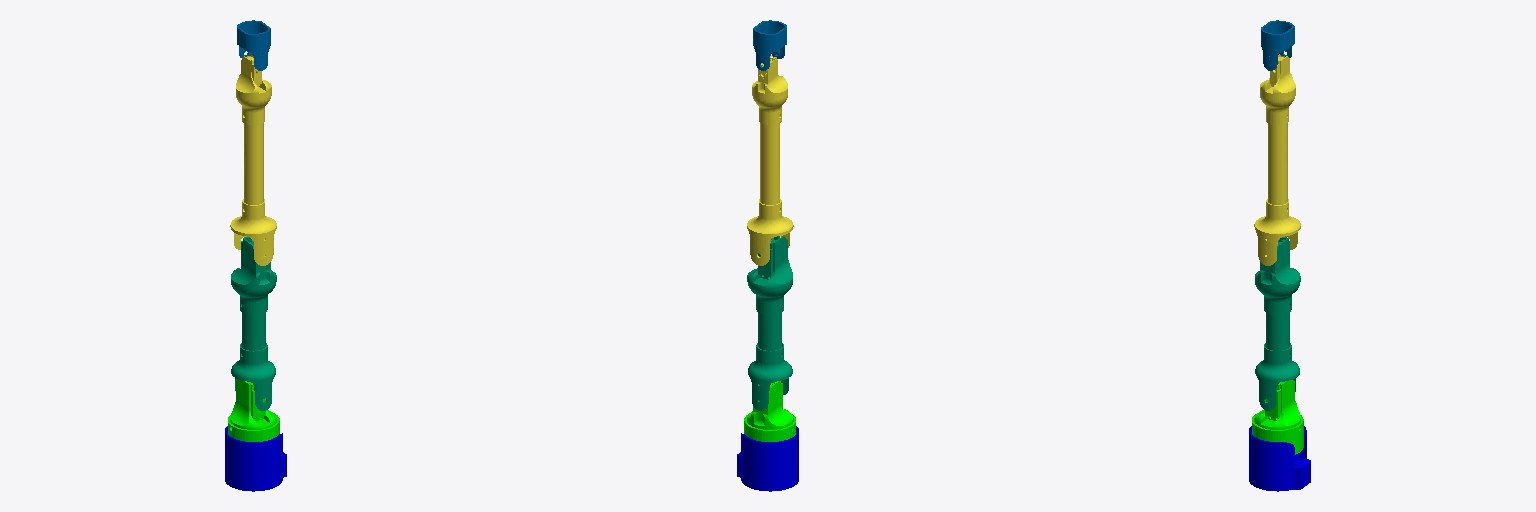
URDF robot description (RoboticArm):
<?xml version="1.0"?>
<robot name="RoboticArm">

  <!-- Base link -->
  <link name="base_link">
    <visual>
      <geometry>
        <mesh filename="package://gazebo_simulation/meshes/RobotArm/Baselink.stl" scale="0.001 0.001 0.001"/>
      </geometry>
      <origin xyz="0 0 0" rpy="0 0 0"/>
      <material name="blue">
        <color rgba="0 0 1 1"/>
      </material>
    </visual>
    <collision>
      <geometry>
        <mesh filename="package://gazebo_simulation/meshes/RobotArm/Baselink.stl" scale="0.001 0.001 0.001"/>
      </geometry>
    </collision>
    <inertial>
      <mass value="0.25"/>
      <inertia ixx="0.001" iyy="0.001" izz="0.001" ixy="0" ixz="0" iyz="0"/>
    </inertial>
  </link>

  <!-- Joint Base to Link1 -->
  <joint name="joint_base" type="revolute">
    <parent link="base_link"/>
    <child link="link_1"/>
    <origin xyz="0 0 0.0485" rpy="0 0 0"/>
    <axis xyz="0 0 1"/>
    <limit lower="-3.14159" upper="3.14159" effort="10" velocity="1"/>
  </joint>

  <!-- Link 1 -->
  <link name="link_1">
    <visual>
      <geometry>
        <mesh filename="package://gazebo_simulation/meshes/RobotArm/Link1.stl" scale="0.001 0.001 0.001"/>
      </geometry>
      <origin xyz="0 0 0" rpy="0 0 0"/>
      <material name="green">
        <color rgba="0 1 0 1"/>
      </material>
    </visual>
    <collision>
      <geometry>
        <mesh filename="package://gazebo_simulation/meshes/RobotArm/Link1.stl" scale="0.001 0.001 0.001"/>
      </geometry>
    </collision>
    <inertial>
      <mass value="0.18"/>
      <inertia ixx="0.00034" iyy="0.00034" izz="0.00017" ixy="0" ixz="0" iyz="0"/>
    </inertial>
  </link>

  <!-- Joint Link1 to Link2 -->
  <joint name="joint_1" type="revolute">
    <parent link="link_1"/>
    <child link="link_2"/>
    <origin xyz="0 0 0.08086" rpy="0 0 0"/>
    <axis xyz="0 1 0"/>
    <limit lower="-3.14159" upper="3.14159" effort="10" velocity="1"/>
  </joint>

  <!-- Link 2 -->
  <link name="link_2">
    <visual>
      <geometry>
        <mesh filename="package://gazebo_simulation/meshes/RobotArm/Link2.stl" scale="0.001 0.001 0.001"/>
      </geometry>
      <origin xyz="0 0 0" rpy="0 0 1.57"/>
    </visual>
    <collision>
      <geometry>
        <mesh filename="package://gazebo_simulation/meshes/RobotArm/Link2.stl" scale="0.001 0.001 0.001"/>
      </geometry>
    </collision>
    <inertial>
      <mass value="0.18"/>
      <inertia ixx="0.00034" iyy="0.00034" izz="0.00017" ixy="0" ixz="0" iyz="0"/>
    </inertial>
  </link>

  <!-- Joint Link2 to Link3 -->
  <joint name="joint_2" type="revolute">
    <parent link="link_2"/>
    <child link="link_3"/>
    <origin xyz="0 0 0.21676113" rpy="0 0 0"/>
    <axis xyz="0 1 0"/>
    <limit lower="-3.14159" upper="3.14159" effort="10" velocity="1"/>
  </joint>

  <!-- Link 3 -->
  <link name="link_3">
    <visual>
      <geometry>
        <mesh filename="package://gazebo_simulation/meshes/RobotArm/Link3.stl" scale="0.001 0.001 0.001"/>
      </geometry>
      <origin xyz="0 0 0" rpy="0 0 0"/>
    </visual>
    <collision>
      <geometry>
        <mesh filename="package://gazebo_simulation/meshes/RobotArm/Link3.stl" scale="0.001 0.001 0.001"/>
      </geometry>
    </collision>
    <inertial>
      <mass value="0.13"/>
      <inertia ixx="0.00048" iyy="0.00048" izz="0.00024" ixy="0" ixz="0" iyz="0"/>
    </inertial>
  </link>

  <!-- Joint Link3 to Link4 -->
  <joint name="joint_3" type="revolute">
    <parent link="link_3"/>
    <child link="link_4"/>
    <origin xyz="0 0 0.280488" rpy="0 0 0"/>
    <axis xyz="0 1 0"/>
    <limit lower="-1.57" upper="1.57" effort="10" velocity="1"/>
  </joint>

  <!-- Link 4 -->
  <link name="link_4">
    <visual>
      <geometry>
        <mesh filename="package://gazebo_simulation/meshes/RobotArm/Link4.stl" scale="0.001 0.001 0.001"/>
      </geometry>
      <origin xyz="0 0 0" rpy="0 0 1.57"/>
    </visual>
    <collision>
      <geometry>
        <mesh filename="package://gazebo_simulation/meshes/RobotArm/Link4.stl" scale="0.001 0.001 0.001"/>
      </geometry>
    </collision>
    <inertial>
      <mass value="0.016"/>
      <inertia ixx="0.00008" iyy="0.00008" izz="0.00004" ixy="0" ixz="0" iyz="0"/>
    </inertial>
  </link>

  <!-- Joint Link4 to Link5 -->
  <joint name="joint_4" type="revolute">
    <parent link="link_4"/>
    <child link="link_5"/>
    <origin xyz="0 0 0" rpy="0 0 0"/>
    <axis xyz="0 0 1"/>
    <limit lower="-1.57" upper="1.57" effort="10" velocity="1"/>
  </joint>

  <!-- Link 5 -->
  <link name="link_5">
    <visual>
      <geometry>
        <mesh filename="package://gazebo_simulation/meshes/RobotArm/BaseLink5.stl" scale="0.001 0.001 0.001"/>
      </geometry>
      <origin xyz="0 0 0.05274" rpy="0 0 0"/>
    </visual>
    <collision>
      <geometry>
        <mesh filename="package://gazebo_simulation/meshes/RobotArm/BaseLink5.stl" scale="0.001 0.001 0.001"/>
      </geometry>
    </collision>
    <inertial>
      <mass value="0.016"/>
      <inertia ixx="0.00008" iyy="0.00008" izz="0.00004" ixy="0" ixz="0" iyz="0"/>
    </inertial>
  </link>

</robot>

--- Render facts (derived) ---
The picture shows the robot from 3 angles, left to right: view 1: azimuth 30°, elevation 25°; view 2: azimuth 150°, elevation 25°; view 3: azimuth 330°, elevation 25°; orthographic projection.
Robot: RoboticArm — 6 links, 5 joints (5 revolute); root link base_link; default pose: all joints at 0.
Links seen in each view (by area): view 1: link_3, link_2, base_link, link_1, link_4; view 2: link_3, link_2, base_link, link_1, link_4; view 3: link_3, link_2, base_link, link_1, link_4.
Boxes of the visible links, box(x1,y1,x2,y2) form: link_3: box(230, 55, 276, 265); link_2: box(231, 237, 276, 410); base_link: box(225, 426, 286, 491); link_1: box(228, 379, 279, 441); link_4: box(237, 20, 270, 70); link_3: box(747, 56, 793, 265); link_2: box(747, 236, 792, 410); base_link: box(737, 426, 798, 491); link_1: box(744, 381, 795, 441); link_4: box(753, 20, 786, 70); link_3: box(1254, 54, 1300, 265); link_2: box(1255, 237, 1300, 410); base_link: box(1249, 426, 1310, 491); link_1: box(1252, 380, 1303, 454); link_4: box(1261, 20, 1294, 70).
Bounding box of the posed robot: 0.0831 × 0.0786 × 0.6736 m (x, y, z).
Meshes: 6 distinct files referenced, 5 mesh visuals loaded (5 binary STL); not drawn: 1 (reference not matched to a file when rendering).
